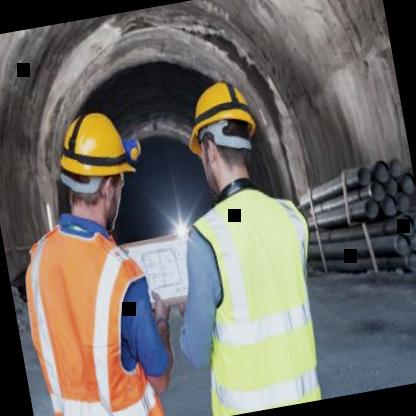helmet: (46, 97, 148, 239), (174, 68, 276, 206)
